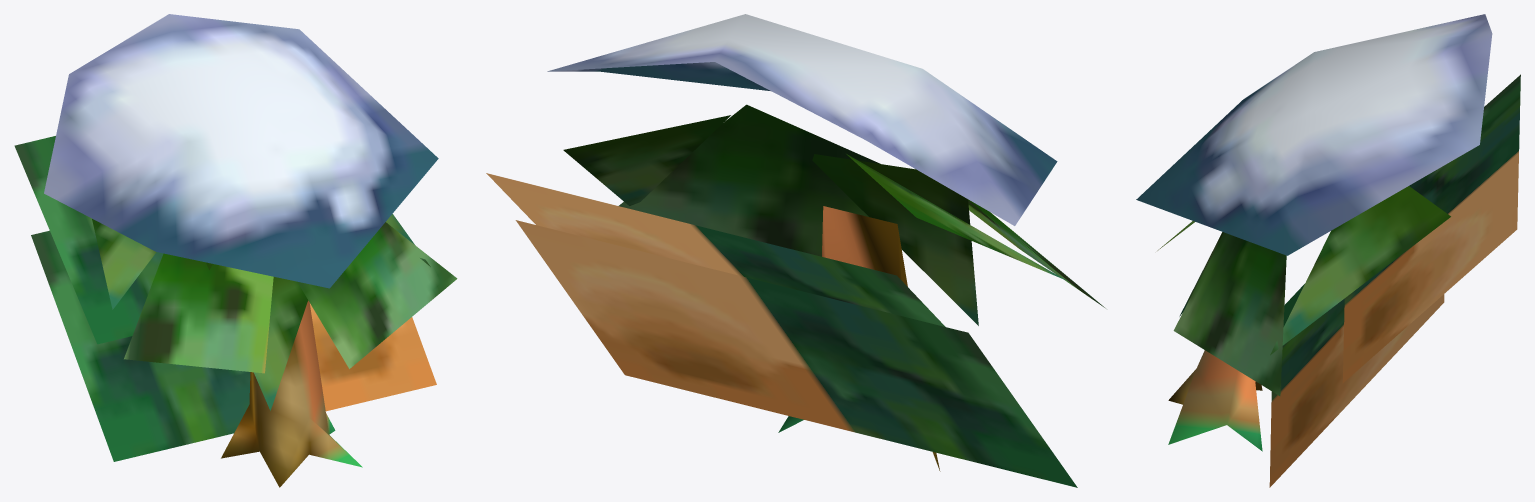
The model's file is fg_bushD_1.dae.
3 views of the same model, side by side, from view 1: azimuth 30°, elevation 25°; view 2: azimuth 150°, elevation 25°; view 3: azimuth 270°, elevation 25° (orthographic). The views are drawn at different scales.
Visible parts, largest first — view 1: fg_bushD_1; view 2: fg_bushD_1; view 3: fg_bushD_1.
Boxes of the visible parts, x1,y1,x2,y2 form: fg_bushD_1: (14, 14, 457, 487); fg_bushD_1: (486, 14, 1105, 487); fg_bushD_1: (1136, 14, 1520, 487).
Bounding box in the file's own units: 30.89 × 29.19 × 26.27.
Materials: 1 (1 with a texture image).
